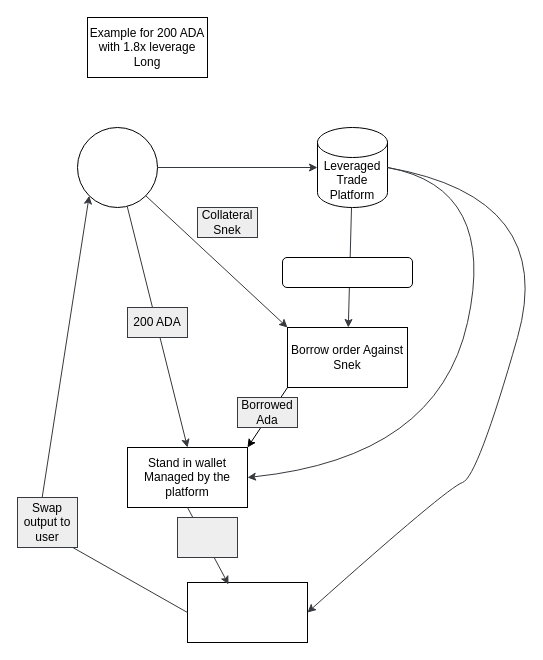
The diagram is 543 pixels wide and 660 high, and some of its shapes have lost their labels. Here are the shapes that lost their labels. From the top down, the centre of each, then its label:
At [117,167]: "User".
At [347,272]: "Platform selects best route".
At [207,537]: "200 + borrowed ADA".
At [247,612]: "DH TRADE to buy token X".
